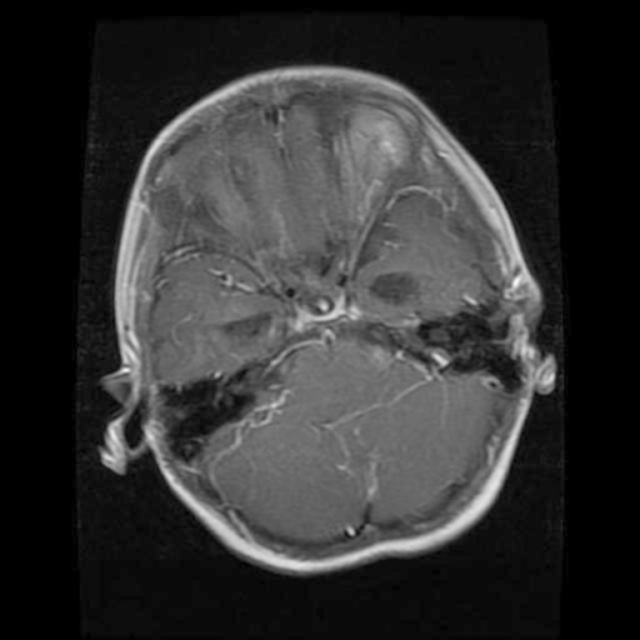pituitary tumor: (345, 105, 404, 194)
